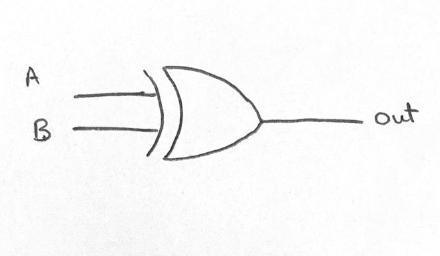XOR: (130, 58, 273, 170)
